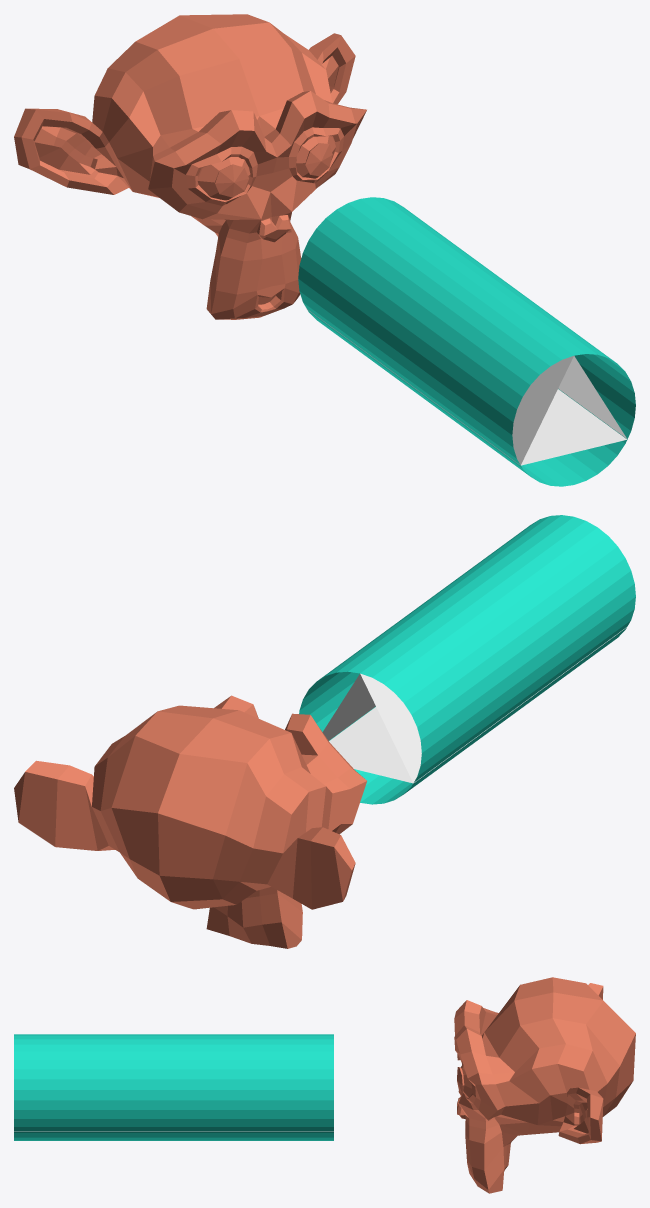
The model's file is Kaleidoscope view.gltf.
The picture shows the model from 3 angles, top to bottom: view 1: azimuth 30°, elevation 25°; view 2: azimuth 150°, elevation 25°; view 3: azimuth 270°, elevation 25°; orthographic projection. The views are drawn at different scales.
Parts seen in each view (by area): view 1: Suzanne, Cylinder.001, Cylinder; view 2: Suzanne, Cylinder.001, Cylinder; view 3: Cylinder.001, Suzanne, Cylinder.
Boxes of the visible parts, left/top/right/bottom form: Suzanne: left=14, top=14, right=366, bottom=319; Cylinder.001: left=298, top=197, right=635, bottom=486; Cylinder: left=307, top=309, right=626, bottom=465; Suzanne: left=14, top=695, right=366, bottom=948; Cylinder.001: left=299, top=515, right=635, bottom=804; Cylinder: left=322, top=626, right=627, bottom=783; Cylinder.001: left=14, top=1034, right=333, bottom=1140; Suzanne: left=454, top=977, right=635, bottom=1193; Cylinder: left=14, top=1131, right=333, bottom=1131.
Bounding box in the file's own units: 2.73 × 1.97 × 5.83.
